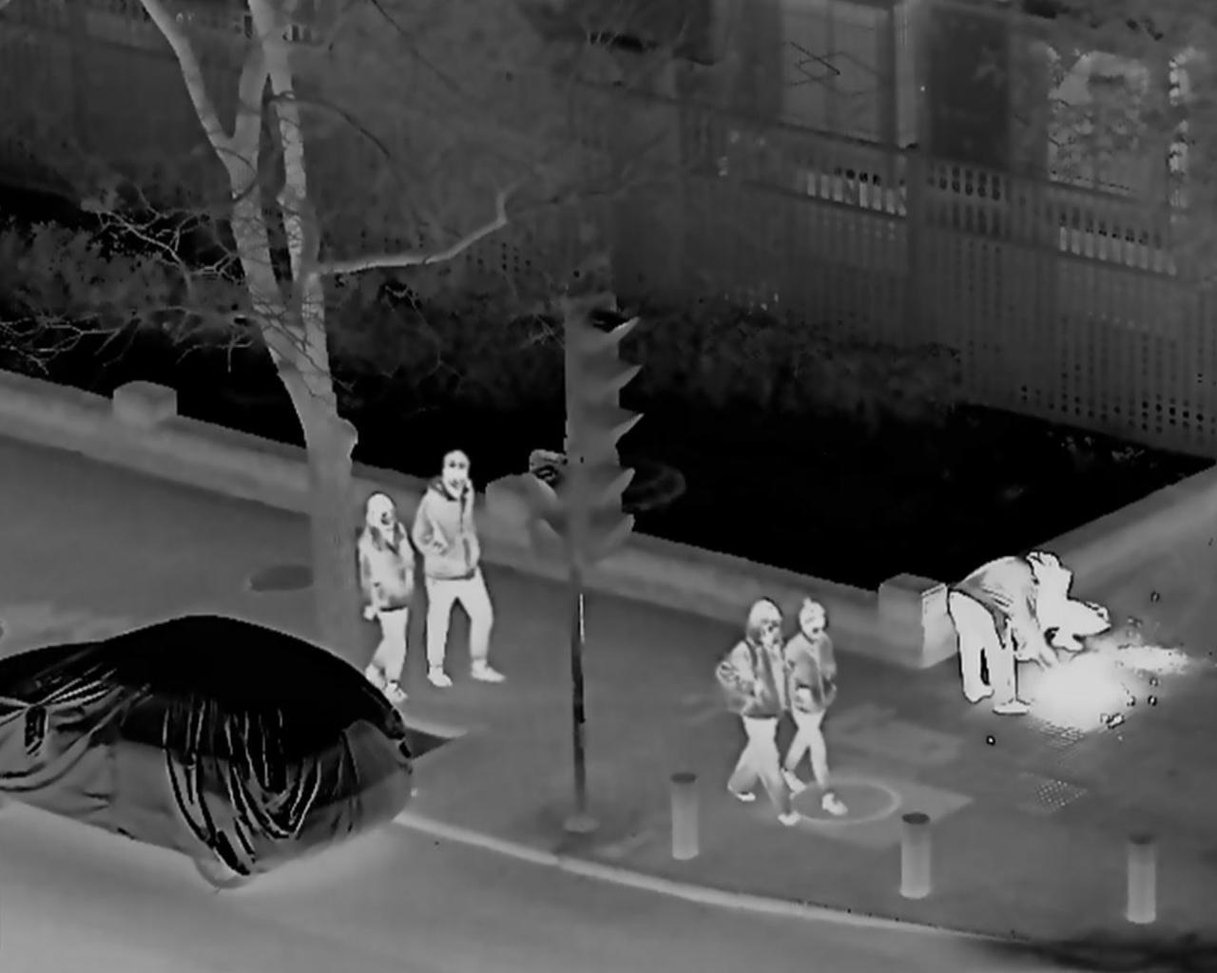person: (412, 450, 510, 694), (718, 601, 798, 827), (943, 554, 1045, 716), (781, 603, 849, 817), (358, 492, 414, 696), (1011, 549, 1112, 660)
